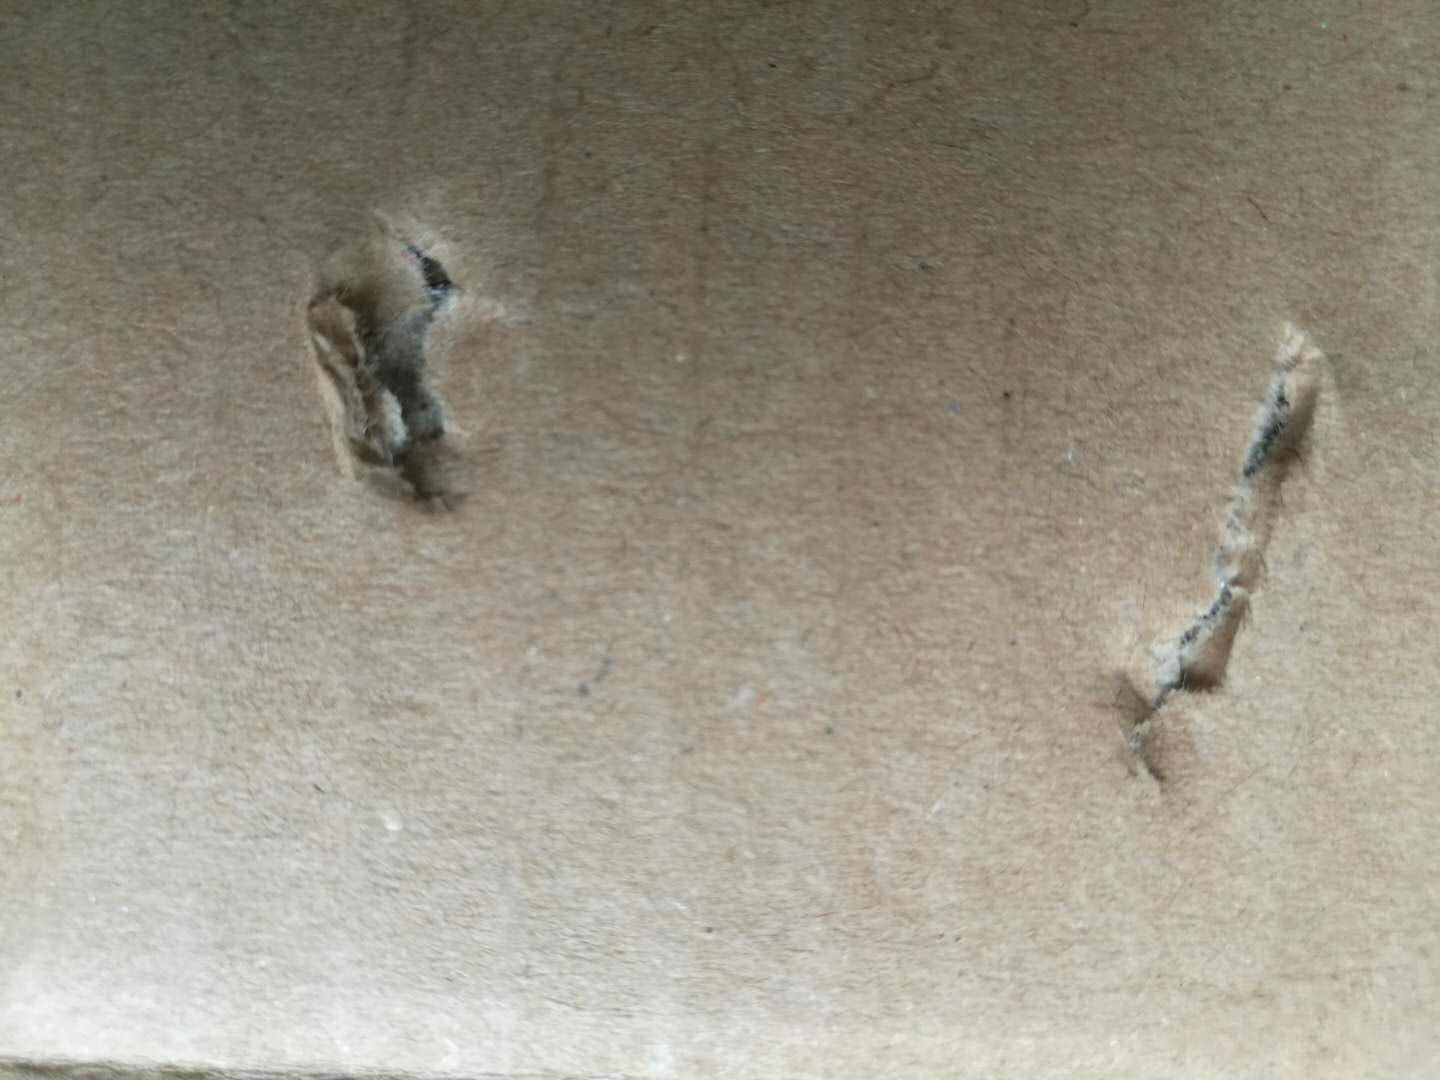defect: (1071, 301, 1394, 805), (274, 159, 612, 562), (1, 1028, 704, 1080)
